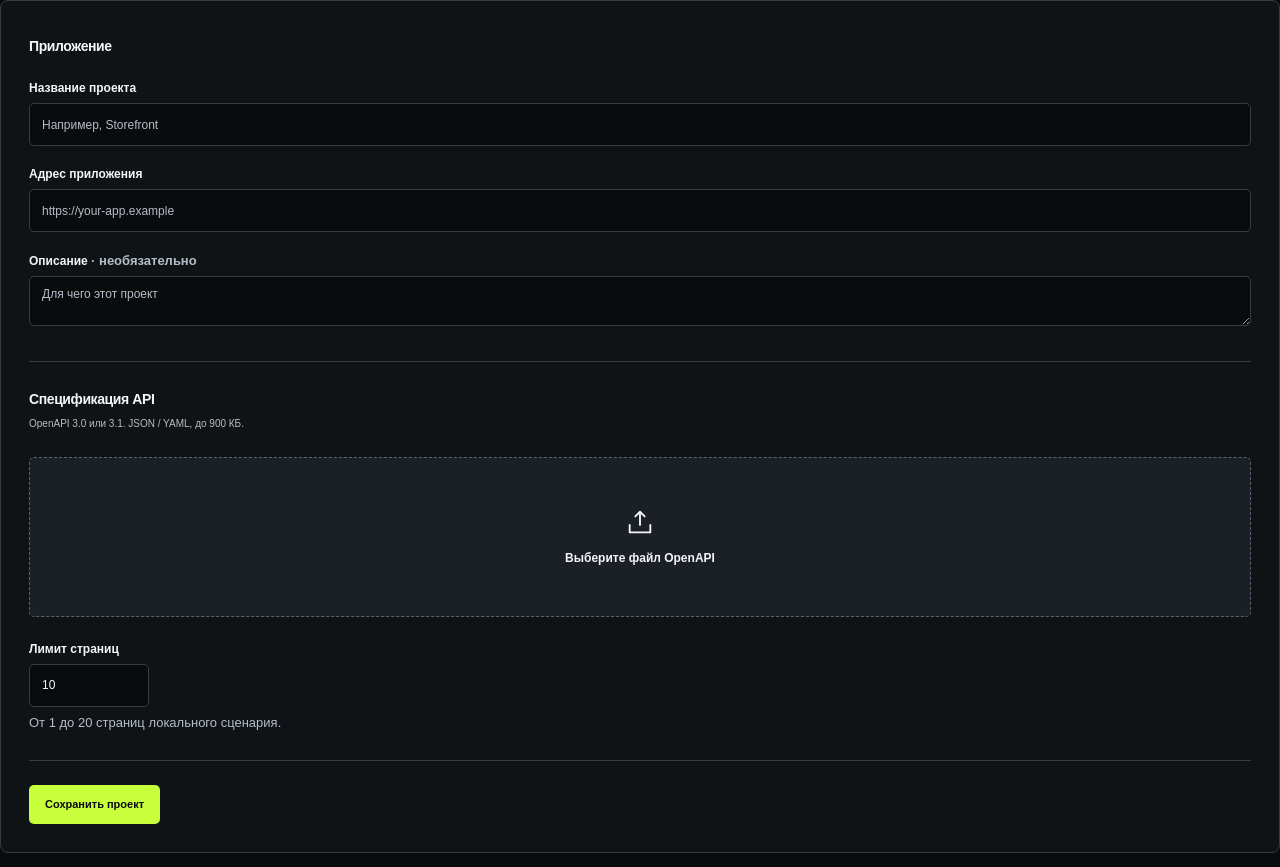
Test case: validates fields and saves a user-supplied OpenAPI file without starting a scan
Later steps or results of the test are not shown.
Click the button "Сохранить проект" at coordinates (95, 804), box 29,784 -> 160,824
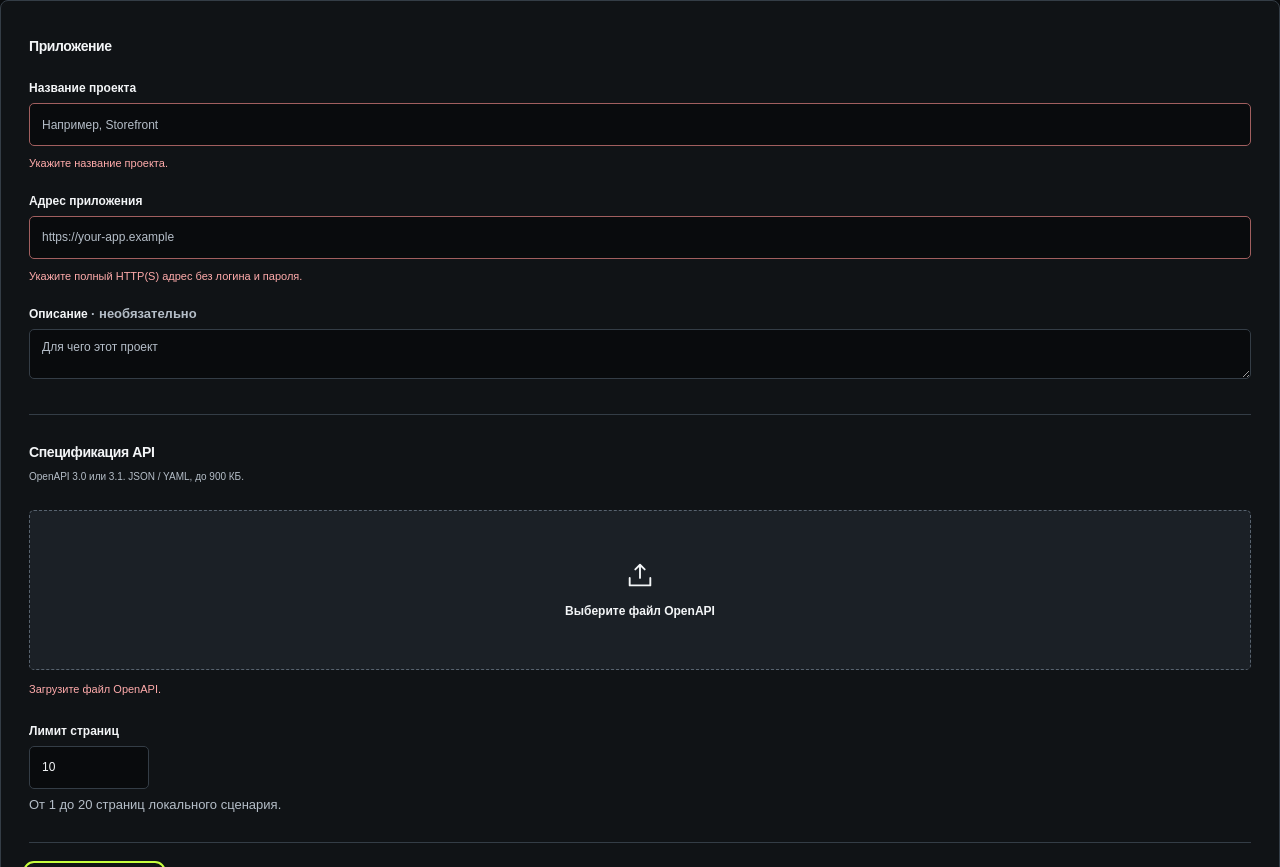
Expected: the text "Укажите название проекта." is shown, 29,157 -> 168,169
